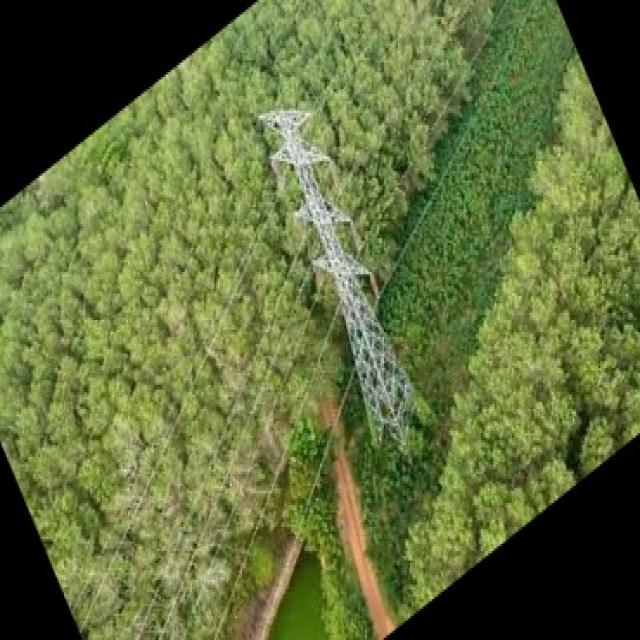utility poles: (246, 90, 452, 476)
